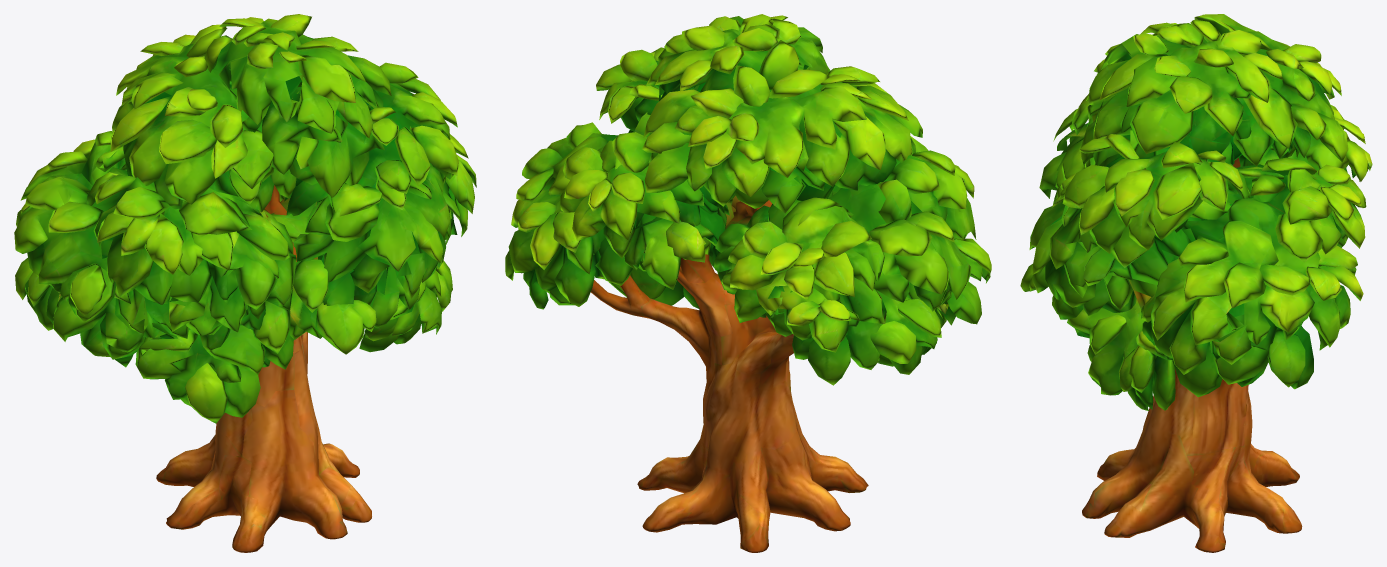
File: tree_lush.glb
The picture shows the model from 3 angles, left to right: view 1: azimuth 30°, elevation 25°; view 2: azimuth 150°, elevation 25°; view 3: azimuth 270°, elevation 25°; orthographic projection.
Visible parts, largest first — view 1: geometry_0; view 2: geometry_0; view 3: geometry_0.
Boxes of the visible parts, left/top/right/bottom form: geometry_0: left=14, top=14, right=476, bottom=552; geometry_0: left=505, top=14, right=991, bottom=552; geometry_0: left=1020, top=14, right=1372, bottom=552.
Size of the model in its own units: 0.9067 by 0.9512 by 0.6328.
Materials: 1 (1 with a texture image).
